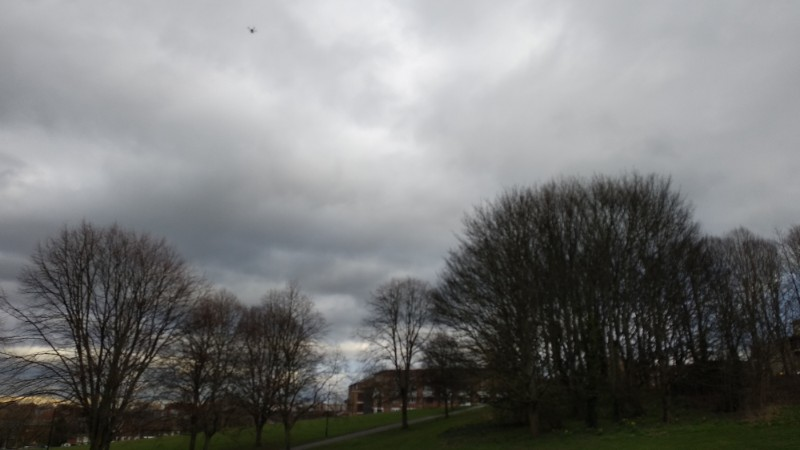drone: (247, 25, 258, 34)
